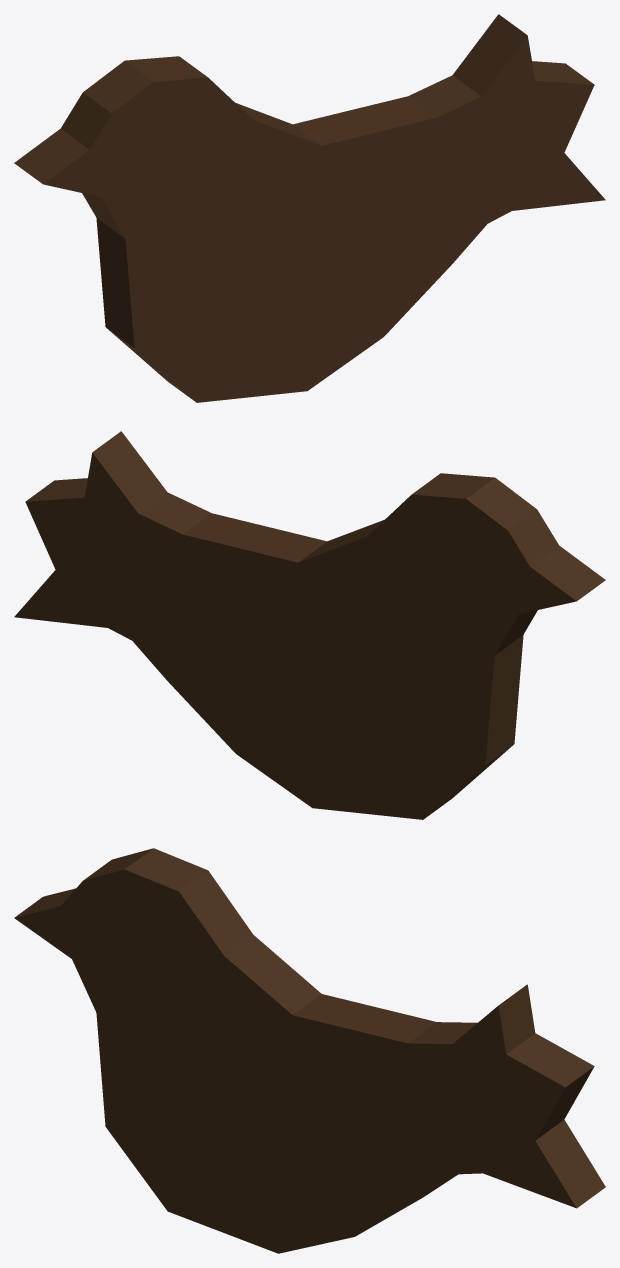
The model's file is Tribal_Plains_Hanging_Charm_Decoration_Timber_Wood_01.fbx.
The picture shows the model from 3 angles, top to bottom: view 1: azimuth 30°, elevation 25°; view 2: azimuth 150°, elevation 25°; view 3: azimuth 330°, elevation 25°; orthographic projection.
Visible parts, largest first — view 1: Tribal_Plains_Hanging_Charm_Decoration_Timber_Wood_01; view 2: Tribal_Plains_Hanging_Charm_Decoration_Timber_Wood_01; view 3: Tribal_Plains_Hanging_Charm_Decoration_Timber_Wood_01.
Boxes of the visible parts, bbox=[...] form: Tribal_Plains_Hanging_Charm_Decoration_Timber_Wood_01: bbox=[14, 14, 605, 402]; Tribal_Plains_Hanging_Charm_Decoration_Timber_Wood_01: bbox=[14, 431, 605, 819]; Tribal_Plains_Hanging_Charm_Decoration_Timber_Wood_01: bbox=[14, 848, 605, 1253].
Size of the model in its own units: 0.7438 by 0.4379 by 0.0667.
